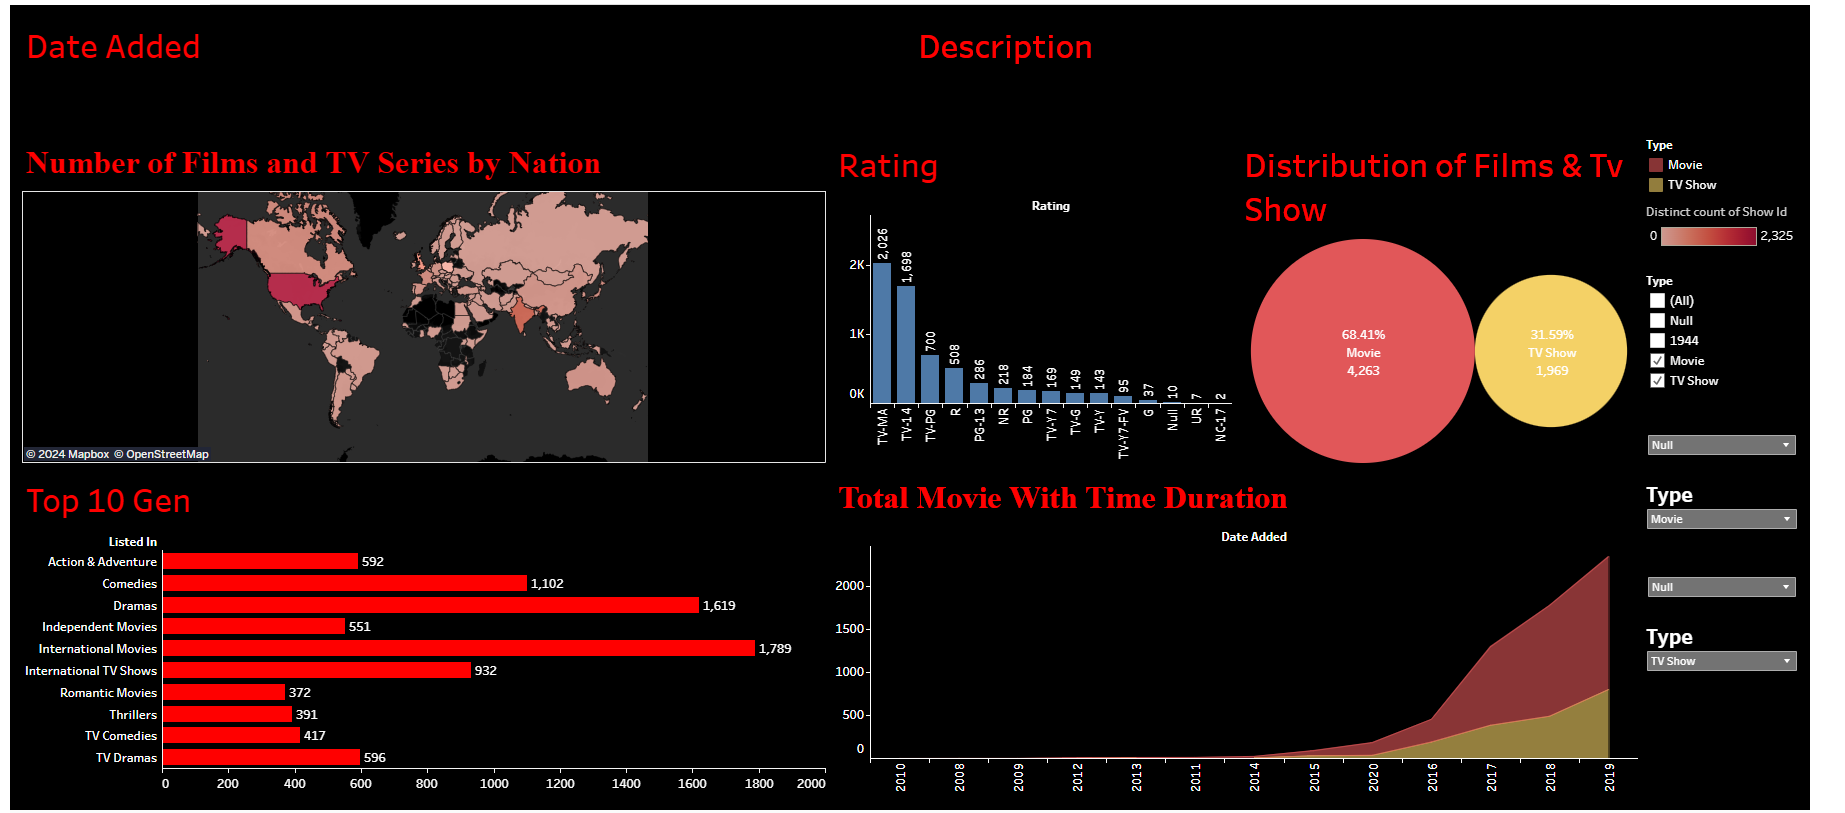

Layout of this report page (visuals, bound fields, positions):
{"tool":"tableau","page":{"name":"Netflix","canvas":[1000,1000],"units":"permille","ordinal":0},"visuals":[{"type":"worksheet","title":"Date Added","mark":"Automatic","box":[4.4,9.3,495.6,147.7]},{"type":"worksheet","title":"Description","mark":"Automatic","box":[500,9.3,495.6,147.7]},{"type":"worksheet","title":"Number of Films and TV Series by Nation ","mark":"Multipolygon","box":[4.4,157,451.1,416.8]},{"type":"worksheet","title":"Rating","mark":"Automatic","rows":["show_id"],"cols":["rating"],"box":[455.6,157,225.6,416.8]},{"type":"worksheet","title":"Distribution of Films & Tv Show","mark":"Circle","box":[681.1,157,225.6,416.8]},{"type":"legend","title":"Total Movie With Time Duration ","param":"[federated.0p7p7gd05idotc16uqb341rs7d8j].[none:type:nk]","box":[906.7,157,88.9,77]},{"type":"legend","title":"Number of Films and TV Series by Nation ","param":"[federated.0p7p7gd05idotc16uqb341rs7d8j].[ctd:show_id:qk]","box":[906.7,234,88.9,75.8]},{"type":"filter","title":"Distribution of Films & Tv Show","param":"[federated.0p7p7gd05idotc16uqb341rs7d8j].[none:type:nk]","box":[906.7,309.9,88.9,148.2]},{"type":"filter","title":"Description","param":"[federated.0p7p7gd05idotc16uqb341rs7d8j].[none:title:nk]","box":[906.7,458,88.9,84]},{"type":"filter","title":"Description","param":"[federated.0p7p7gd05idotc16uqb341rs7d8j].[none:type:nk]","box":[906.7,542,88.9,74.7]},{"type":"worksheet","title":"Top 10 Gen","mark":"Automatic","rows":["listed_in"],"cols":["show_id"],"box":[4.4,573.8,451.1,416.8]},{"type":"worksheet","title":"Total Movie With Time Duration ","mark":"Area","rows":["show_id"],"cols":["date_added"],"box":[455.6,573.8,451.1,416.8]},{"type":"filter","title":"Date Added","param":"[federated.0p7p7gd05idotc16uqb341rs7d8j].[none:title:nk]","box":[906.7,616.7,88.9,84]},{"type":"filter","title":"Date Added","param":"[federated.0p7p7gd05idotc16uqb341rs7d8j].[none:type:nk]","box":[906.7,700.7,88.9,74.7]}]}

Visuals, with their boxes on the dashboard's canvas, which has no fixed pixel size, in thousandths of its width and height (x1, y1, x2, y2). These are canvas units, not pixel positions in the 1845x813 screenshot, which may show the page scaled, cropped or inside an application window:
"Date Added" worksheet: 4 9 500 157
"Description" worksheet: 500 9 996 157
"Number of Films and TV Series by Nation " worksheet (Multipolygon marks): 4 157 456 574
"Rating" worksheet: 456 157 681 574
"Distribution of Films & Tv Show" worksheet (Circle marks): 681 157 907 574
"Total Movie With Time Duration " legend: 907 157 996 234
"Number of Films and TV Series by Nation " legend: 907 234 996 310
"Distribution of Films & Tv Show" filter: 907 310 996 458
"Description" filter: 907 458 996 542
"Description" filter: 907 542 996 617
"Top 10 Gen" worksheet: 4 574 456 991
"Total Movie With Time Duration " worksheet (Area marks): 456 574 907 991
"Date Added" filter: 907 617 996 701
"Date Added" filter: 907 701 996 775
